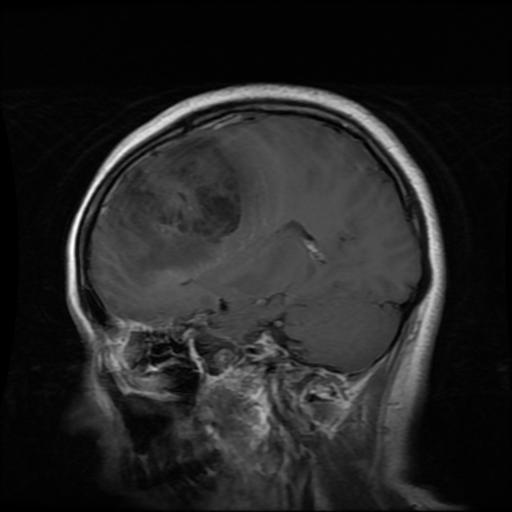Gliomia_tumour: (109, 135, 245, 264)
